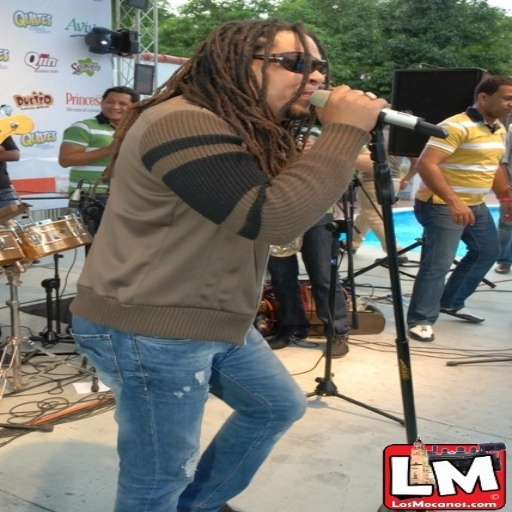hand: (319, 80, 391, 126), (449, 200, 476, 229), (500, 200, 510, 222)
